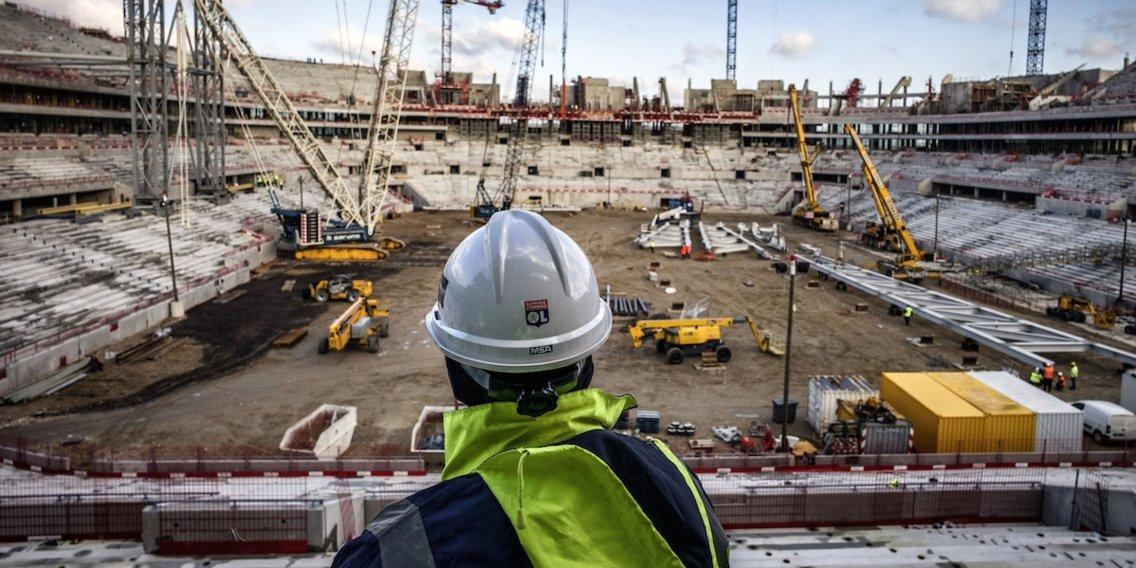helmet: (432, 214, 618, 353)
